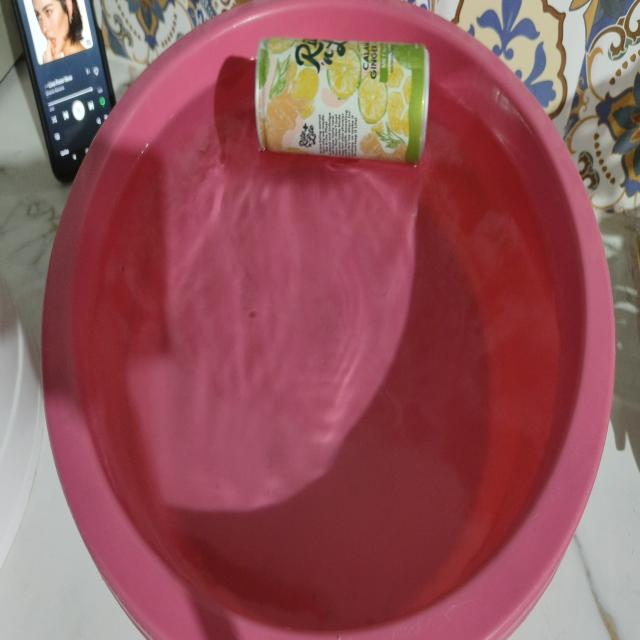Aluminum Can: (255, 38, 429, 163)
